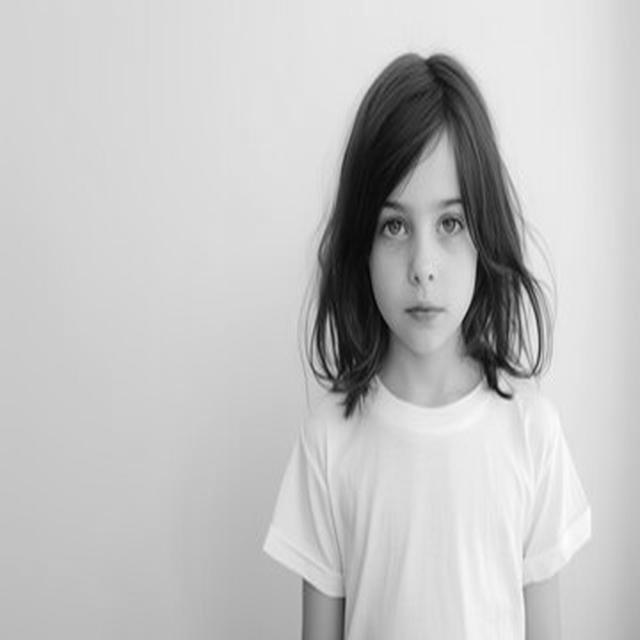Neutral: (370, 128, 477, 353)
